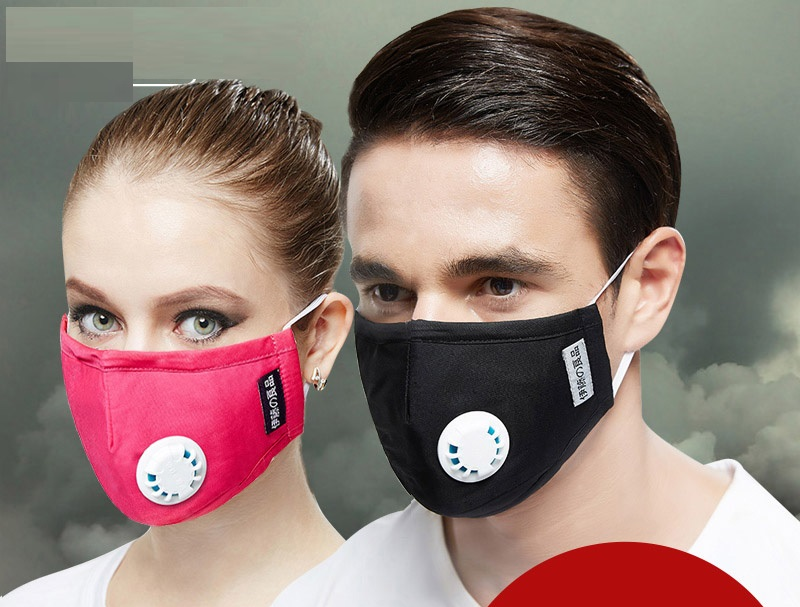face_mask: (352, 149, 593, 514), (61, 174, 302, 524)
